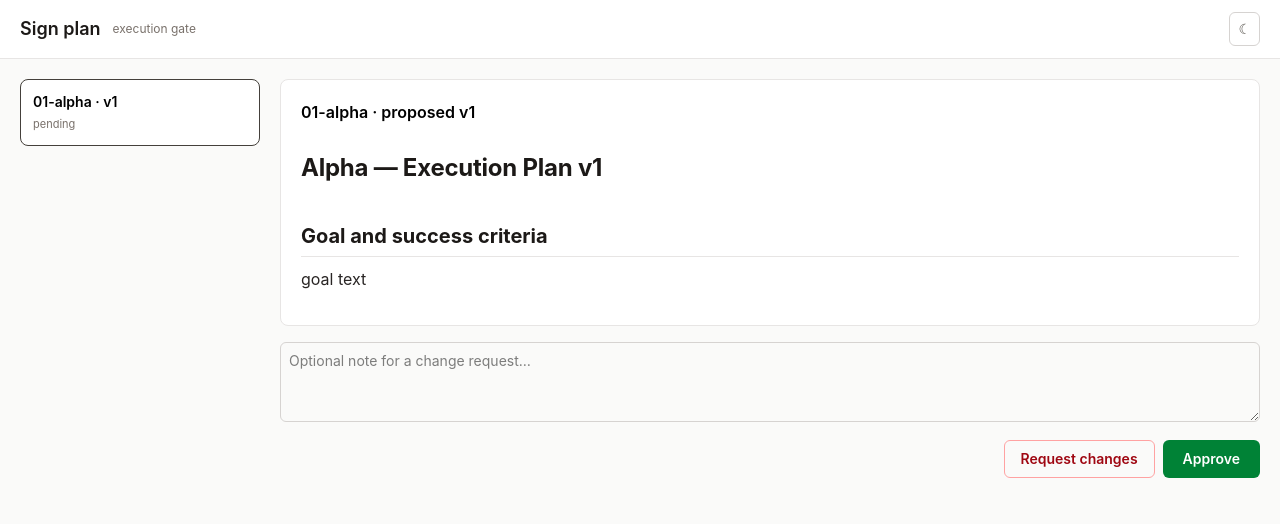
Test: failed sign-session POST recovery › routes server-gone recovery through the new ConnBanner copy
Click the button "Approve".
click(1211, 459)  # box x1=1163 y1=440 x2=1260 y2=478
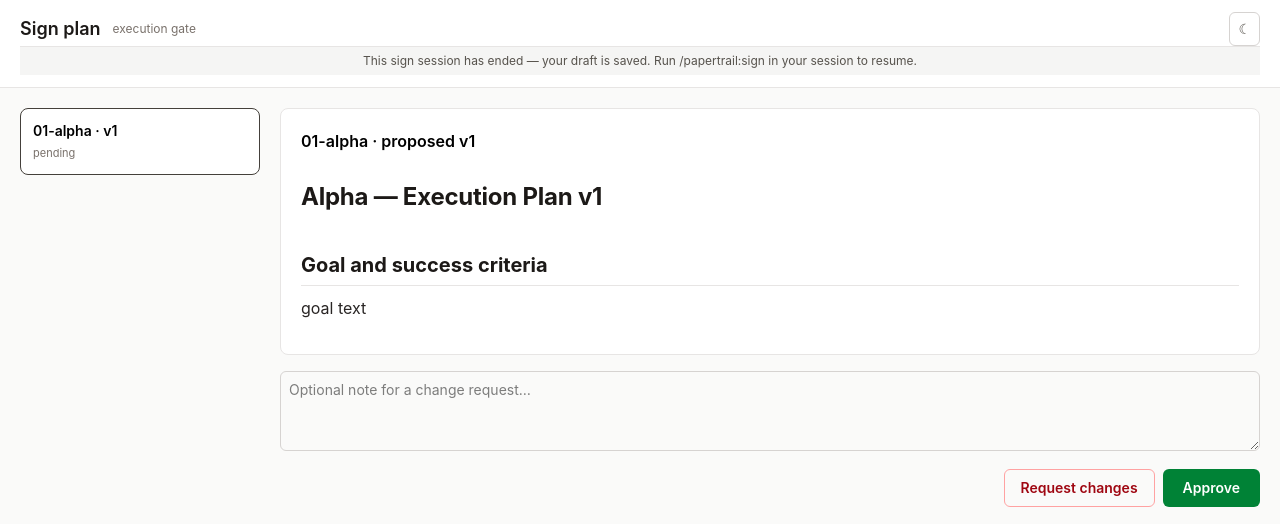
Result: the text "papertrail:sign" is shown at x1=363 y1=53 x2=917 y2=68
